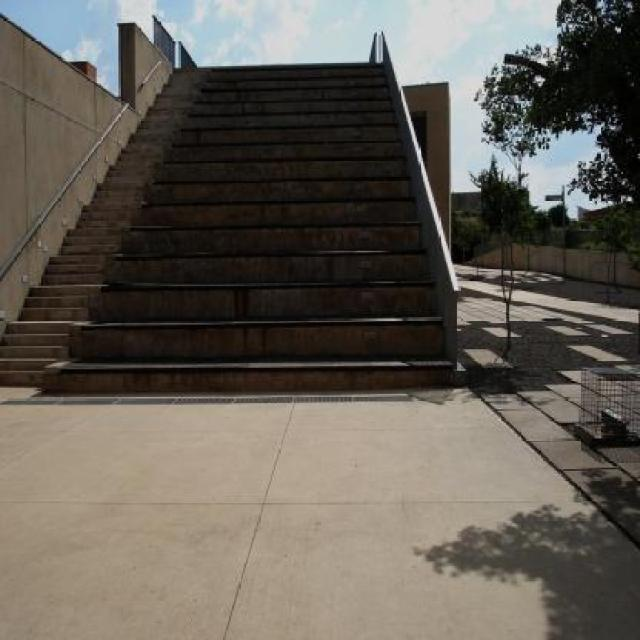stair: (43, 61, 457, 397), (0, 66, 211, 388)
